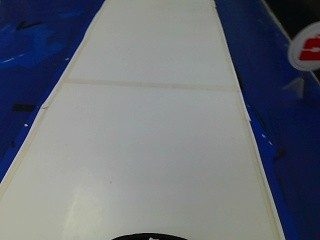company: (289, 19, 318, 74)
